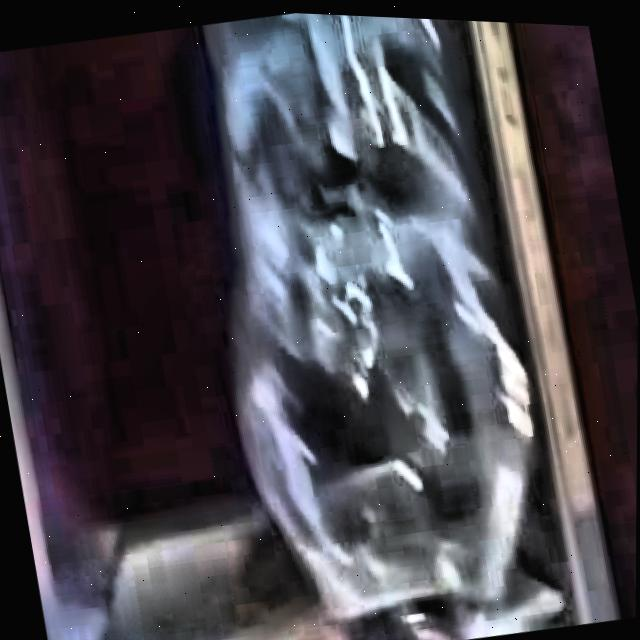plastic: (201, 10, 534, 612)
